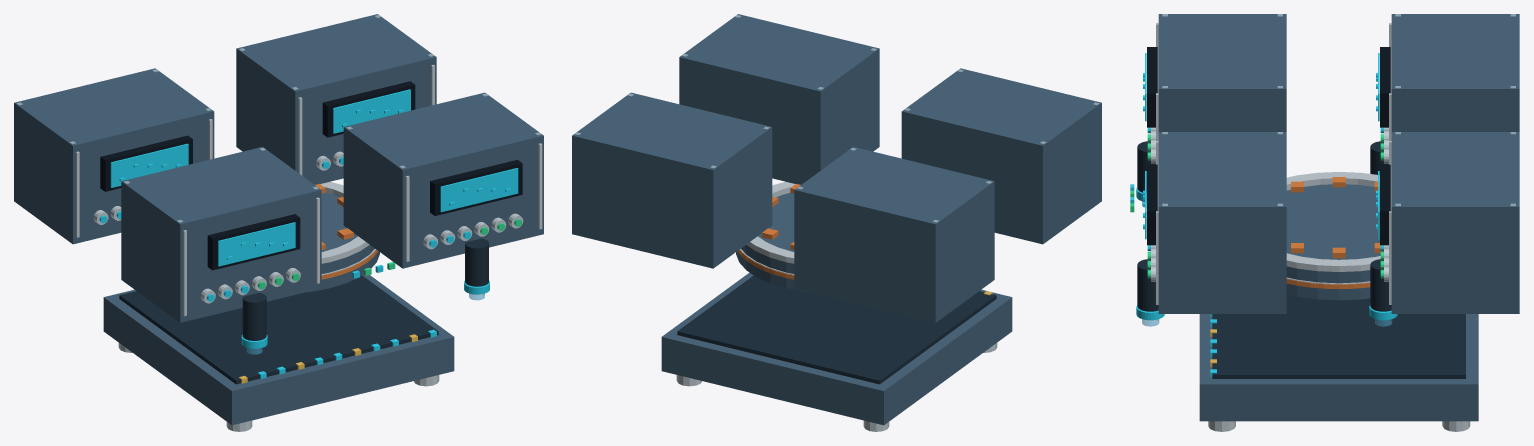
The model's file is 13_L79_HighPrecisionWaferPreAligner.fbx.
3 views of the same model, side by side, from view 1: azimuth 30°, elevation 25°; view 2: azimuth 150°, elevation 25°; view 3: azimuth 270°, elevation 25° (orthographic). The views are drawn at different scales.
Parts seen in each view (by area): view 1: HighPrecisionWaferPreAligner, HighPrecisionWaferPreAligner_Part_0165, HighPrecisionWaferPreAligner_Part_0166; view 2: HighPrecisionWaferPreAligner, HighPrecisionWaferPreAligner_Part_0165, HighPrecisionWaferPreAligner_Part_0166; view 3: HighPrecisionWaferPreAligner, HighPrecisionWaferPreAligner_Part_0165, HighPrecisionWaferPreAligner_Part_0166.
Part boxes in pixels (x1,y1,x2,y2): HighPrecisionWaferPreAligner: (14, 14, 543, 431); HighPrecisionWaferPreAligner_Part_0165: (307, 193, 379, 292); HighPrecisionWaferPreAligner_Part_0166: (320, 181, 369, 263); HighPrecisionWaferPreAligner: (572, 14, 1101, 431); HighPrecisionWaferPreAligner_Part_0165: (736, 193, 808, 292); HighPrecisionWaferPreAligner_Part_0166: (746, 181, 795, 263); HighPrecisionWaferPreAligner: (1130, 14, 1519, 431); HighPrecisionWaferPreAligner_Part_0165: (1286, 184, 1380, 300); HighPrecisionWaferPreAligner_Part_0166: (1286, 172, 1380, 271).
Size of the model in its own units: 278 by 179 by 237.
